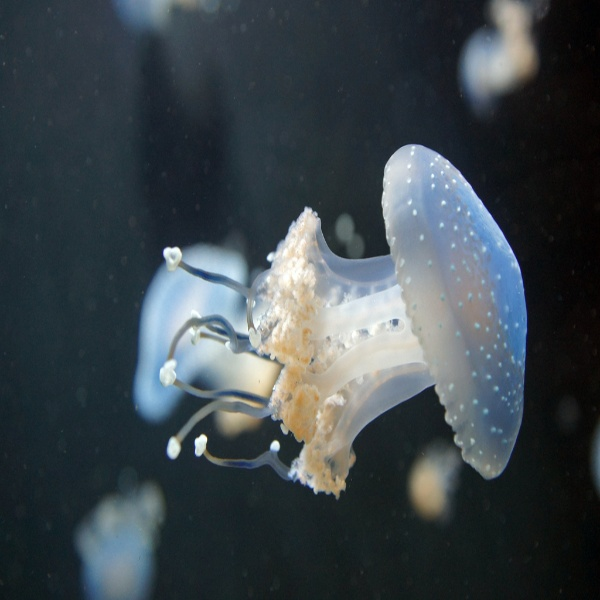Jellyfish: (126, 146, 540, 492)
